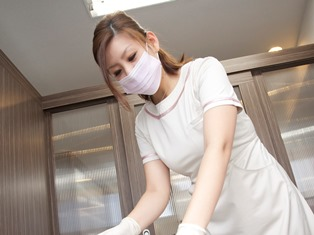mask: (118, 52, 162, 96)
